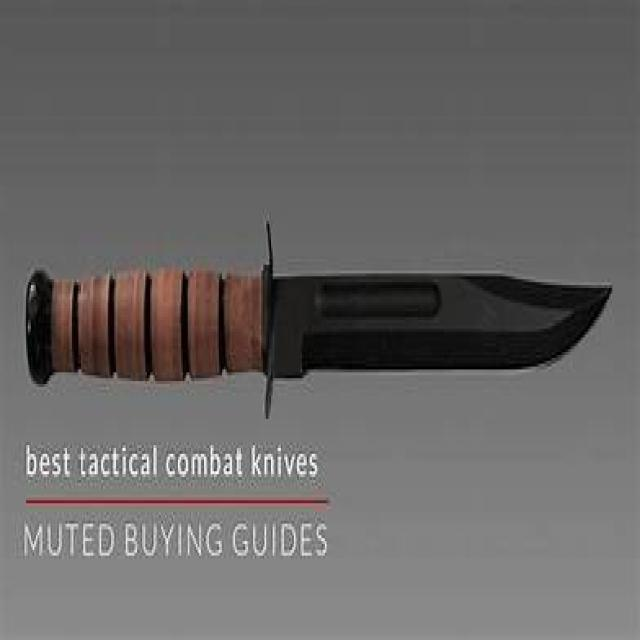Knife: (19, 213, 618, 414)
